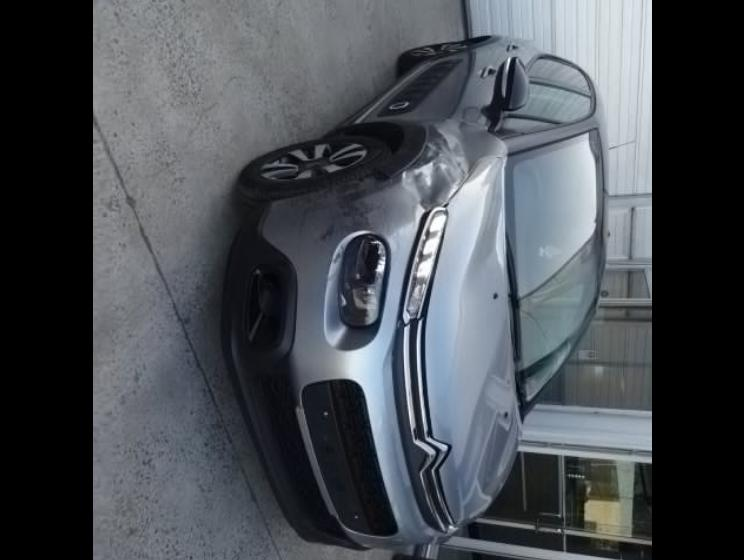Dent: (392, 122, 468, 217)
Scratch: (333, 182, 379, 233), (296, 191, 331, 234), (316, 215, 336, 244), (283, 198, 299, 208), (333, 247, 342, 264)
